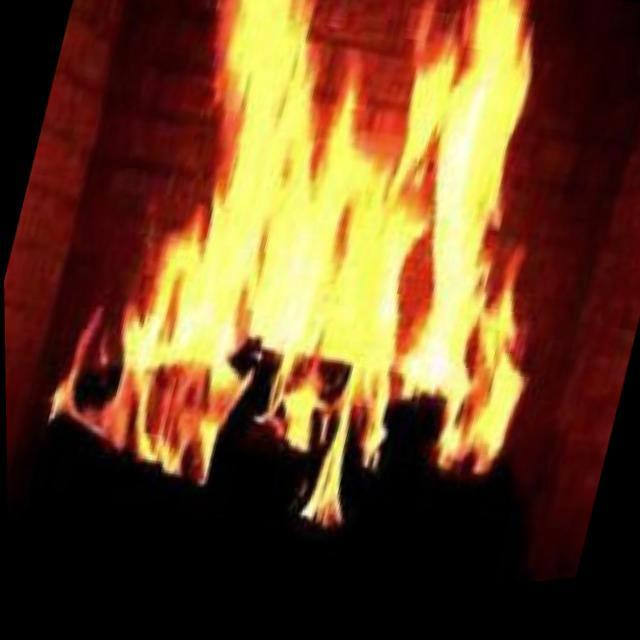fire: (125, 0, 602, 498)
